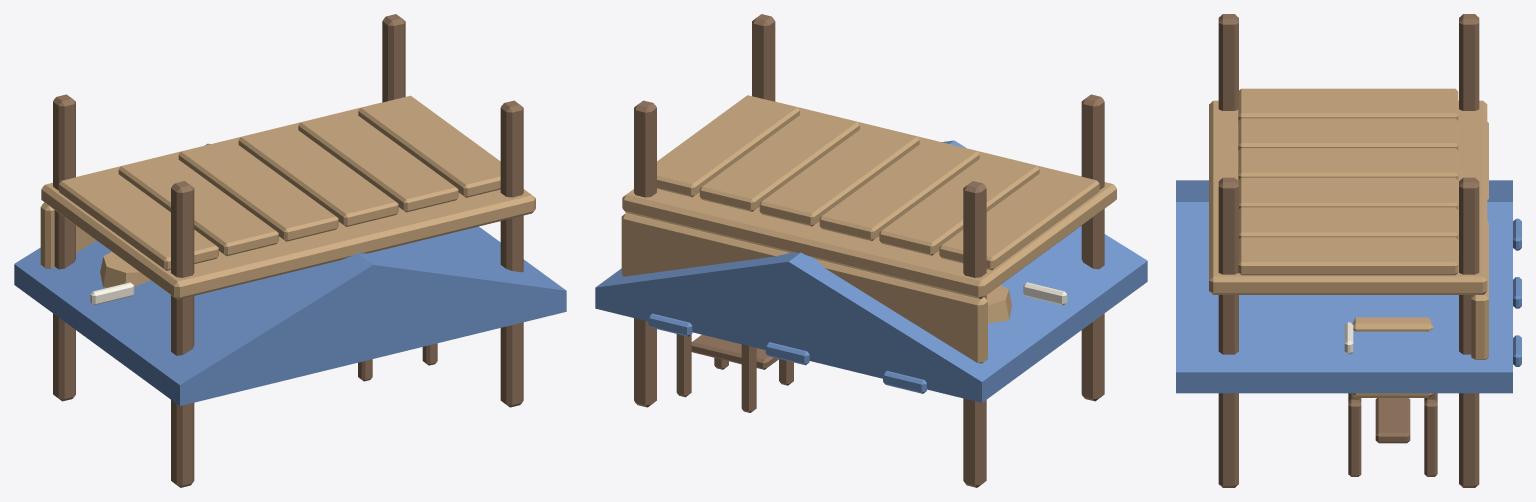
Rendered from town_market_stall_blue.glb.
3 renders of one model, left to right at view 1: azimuth 30°, elevation 25°; view 2: azimuth 150°, elevation 25°; view 3: azimuth 270°, elevation 25°, orthographic.
Parts seen in each view (by area): view 1: world; view 2: world; view 3: world.
Boxes of the visible parts, left/top/right/bottom form: world: left=14, top=14, right=566, bottom=487; world: left=595, top=14, right=1147, bottom=487; world: left=1176, top=14, right=1521, bottom=487.
Bounding box in the file's own units: 2 × 1.46 × 1.49.
